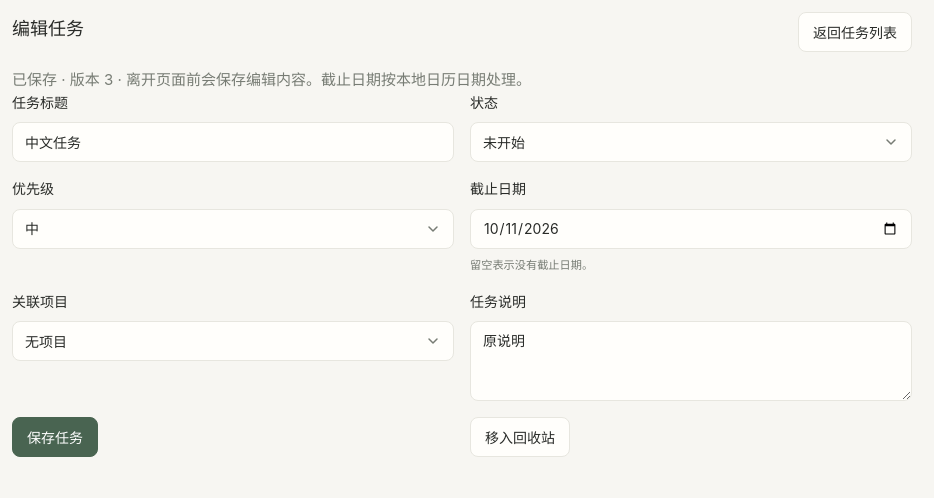
Test case: 切页冲刷保存本地日期字符串，并与在途保存共用一次请求
In the text box labelled "任务说明": (691, 361) [470,321,912,401], type "追加"
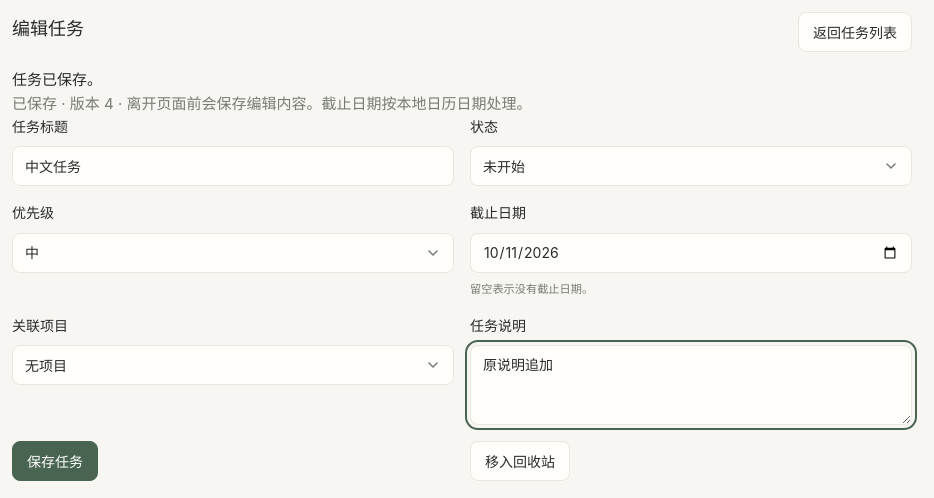
Now the text "任务已保存。" is shown, box [12,70,102,89]
